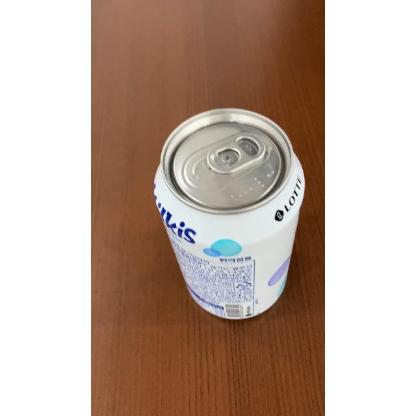Can: (151, 108, 307, 323)
